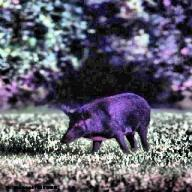boar: (59, 92, 151, 154)
